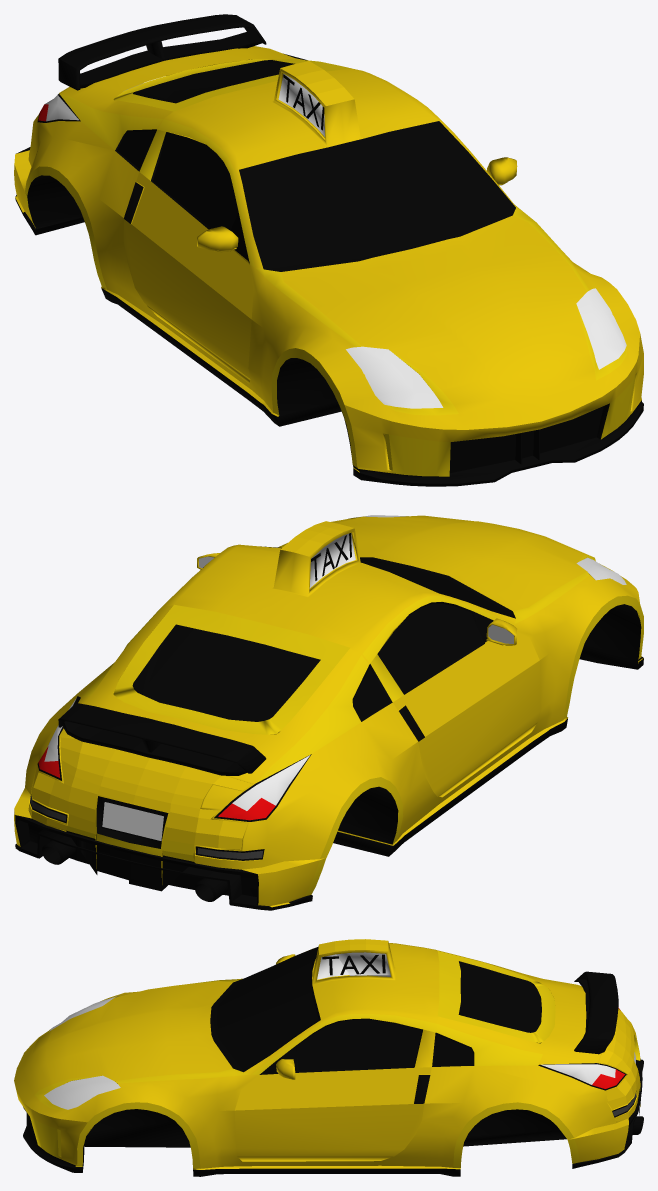
Rendered from nissansedantaxi_.fbx.
The picture shows the model from 3 angles, top to bottom: view 1: azimuth 30°, elevation 25°; view 2: azimuth 150°, elevation 25°; view 3: azimuth 270°, elevation 25°; orthographic projection. The views are drawn at different scales.
Parts seen in each view (by area): view 1: Car 02; view 2: Car 02; view 3: Car 02, Text.
Boxes of the visible parts, x1=… form: Car 02: x1=14, y1=14, x2=643, y2=486; Car 02: x1=14, y1=515, x2=643, y2=910; Car 02: x1=14, y1=939, x2=643, y2=1176; Text: x1=322, y1=954, x2=385, y2=975.
Size of the model in its own units: 438 by 311 by 985.
